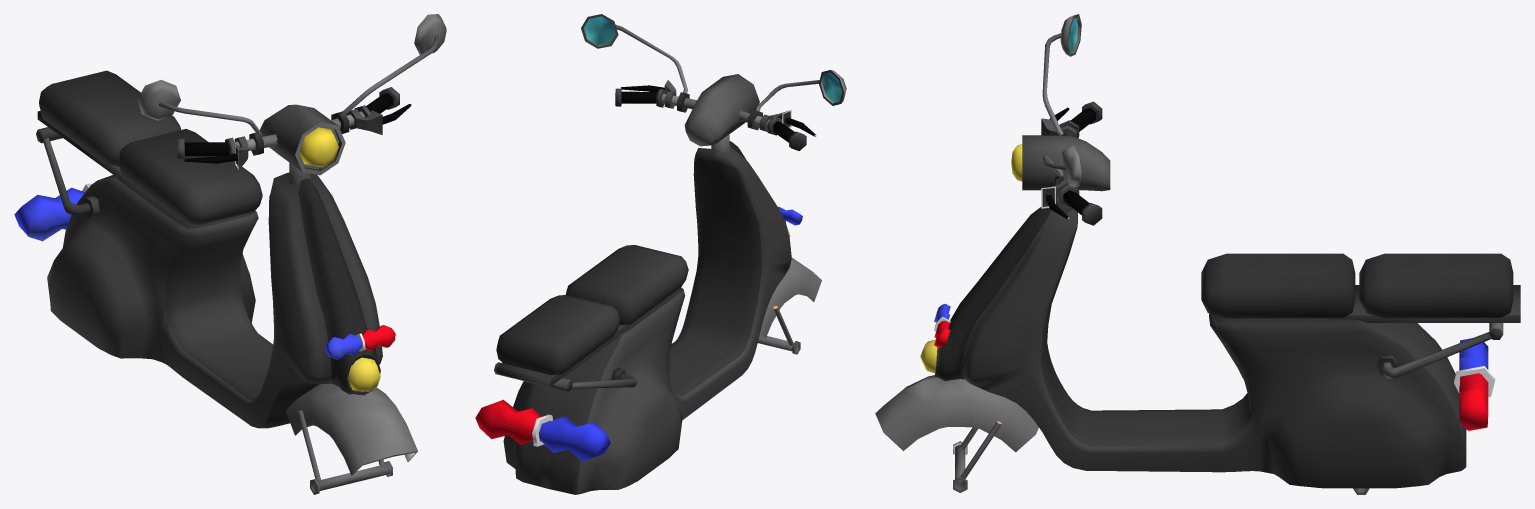
Rendered from Police_Motorcycle_Body_1.fbx.
3 views of the same model, side by side, from view 1: azimuth 30°, elevation 25°; view 2: azimuth 150°, elevation 25°; view 3: azimuth 270°, elevation 25° (orthographic). The views are drawn at different scales.
Parts seen in each view (by area): view 1: Police_Motorcycle_Body_1; view 2: Police_Motorcycle_Body_1; view 3: Police_Motorcycle_Body_1.
Boxes of the visible parts, bbox=[...] form: Police_Motorcycle_Body_1: bbox=[14, 14, 446, 494]; Police_Motorcycle_Body_1: bbox=[475, 14, 846, 494]; Police_Motorcycle_Body_1: bbox=[875, 14, 1520, 494].
Bounding box in the file's own units: 107 × 132 × 196.
Materials: 1 (1 with a texture image).
